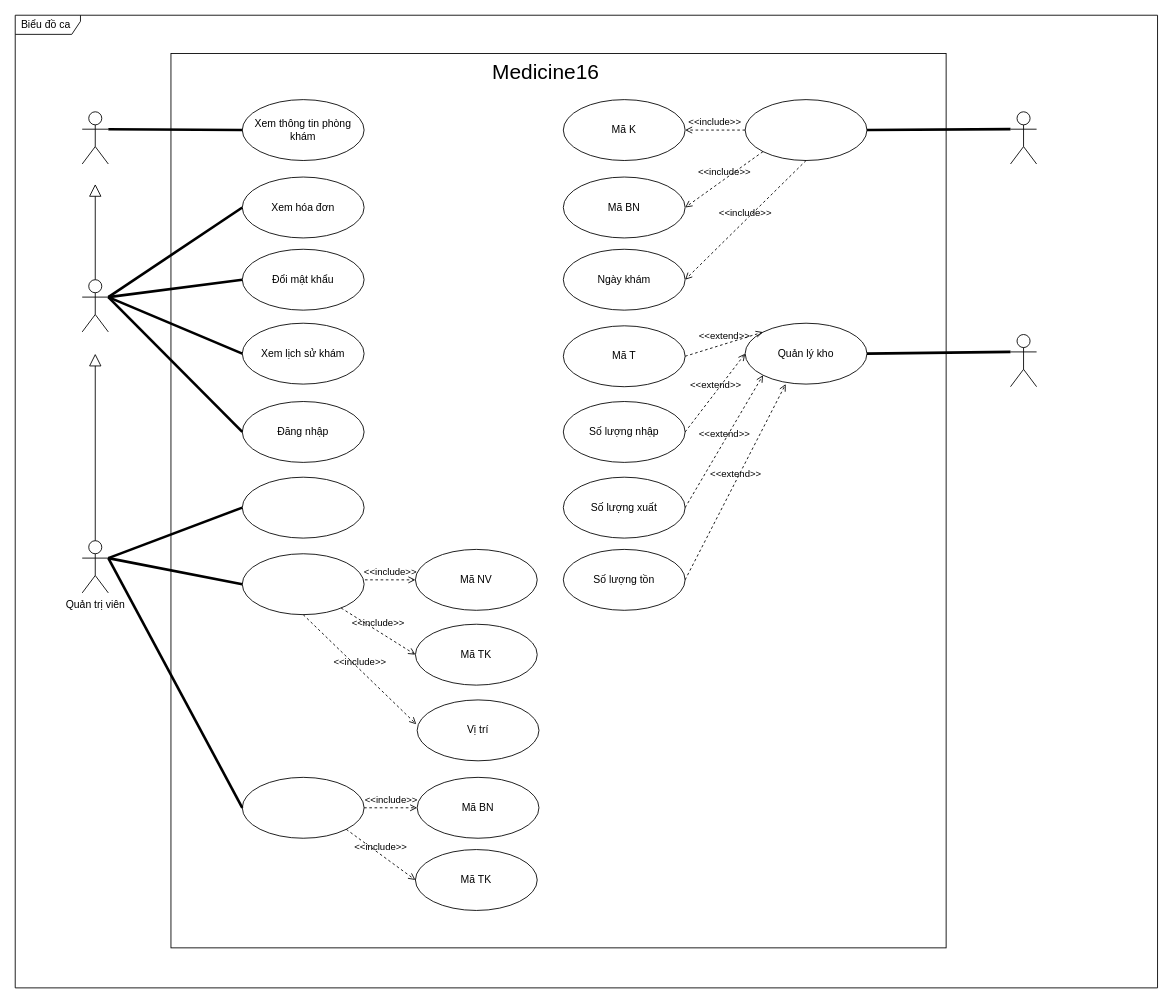
Some shapes in this 1173 by 1003 pixel diagram are drawn without their labels. The centre of each missing label's shape, as x and y in pixels:
Bác sĩ: [1023,137]
Bệnh nhân: [94,305]
Khách: [94,137]
Quản lý bệnh nhân: [302,807]
Quản lý lịch khám: [805,130]
Quản lý nhân viên: [302,584]
Quản lý thông tin phòng khám: [302,507]
Thủ kho: [1023,360]
